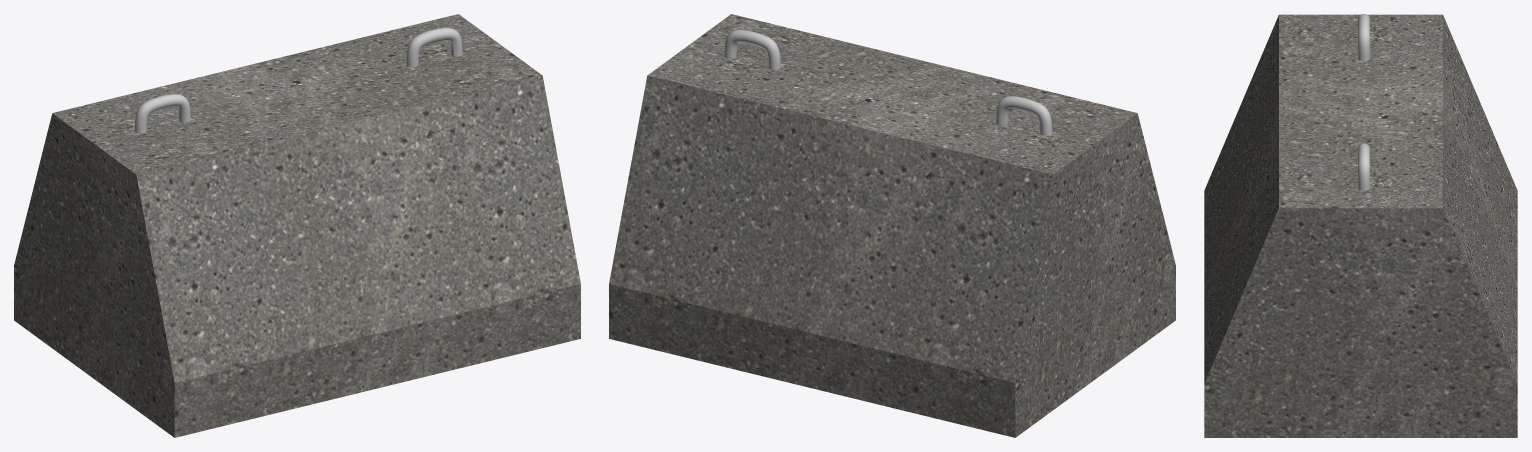
File: RoadBlock.fbx
The picture shows the model from 3 angles, left to right: view 1: azimuth 30°, elevation 25°; view 2: azimuth 150°, elevation 25°; view 3: azimuth 270°, elevation 25°; orthographic projection. The views are drawn at different scales.
Parts seen in each view (by area): view 1: Middle, Bottom, HandleLeft, HandleRight; view 2: Middle, Bottom, HandleLeft, HandleRight; view 3: Middle, Bottom, HandleRight, HandleLeft.
Part boxes in pixels (box(x1,y1,x2,y2)): Middle: box(14, 14, 580, 382); Bottom: box(14, 265, 580, 437); HandleLeft: box(406, 27, 462, 67); HandleRight: box(134, 94, 190, 133); Middle: box(609, 14, 1175, 382); Bottom: box(609, 265, 1175, 437); HandleLeft: box(724, 30, 780, 69); HandleRight: box(996, 96, 1052, 135); Middle: box(1204, 14, 1517, 384); Bottom: box(1204, 384, 1517, 437); HandleRight: box(1358, 14, 1369, 61); HandleLeft: box(1358, 143, 1369, 190).
Bounding box in the file's own units: 181 × 113 × 124.
